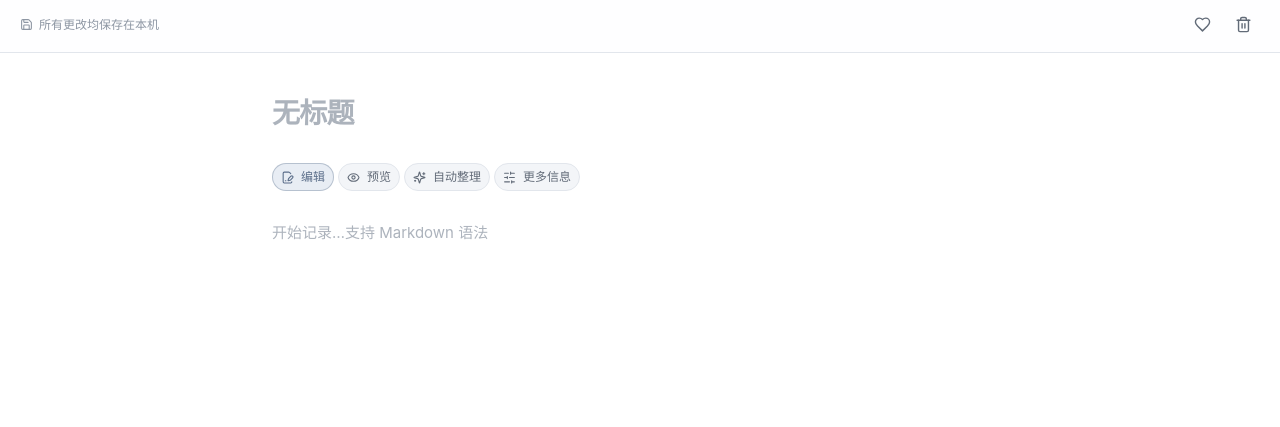
Scenario: core components › keeps metadata collapsed until the user requests it
This screenshot has width=1280, height=427.
Expected: the text "分类" is not shown
Expected: the text "截止日期" is not shown
What coordinates should you click on to do the following:
click the button "更多信息"
I would click on:
 (537, 177)
Its box is [494,163,580,191].
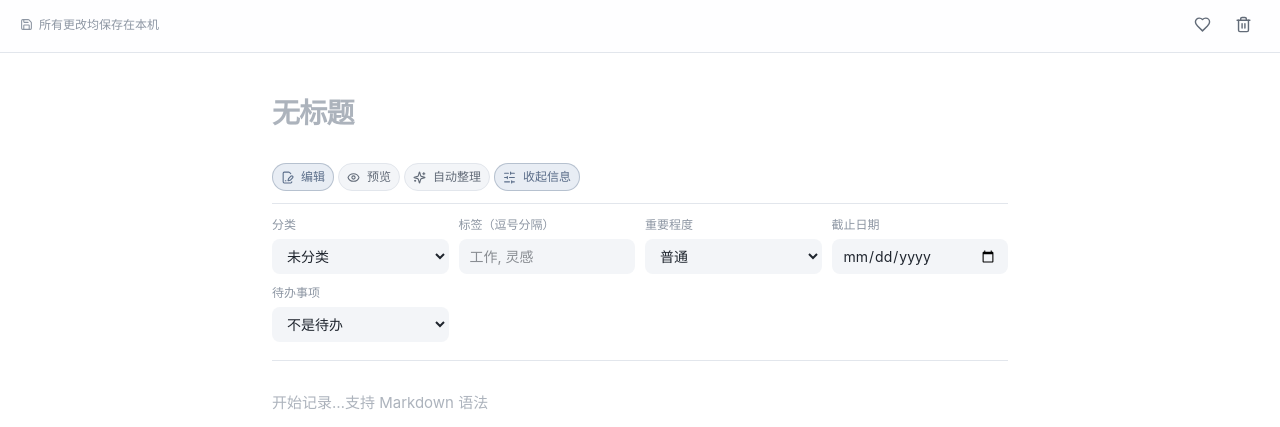
Now the text "分类" is shown, box [272,217,296,232]
Now the text "截止日期" is shown, box [832,217,880,232]
